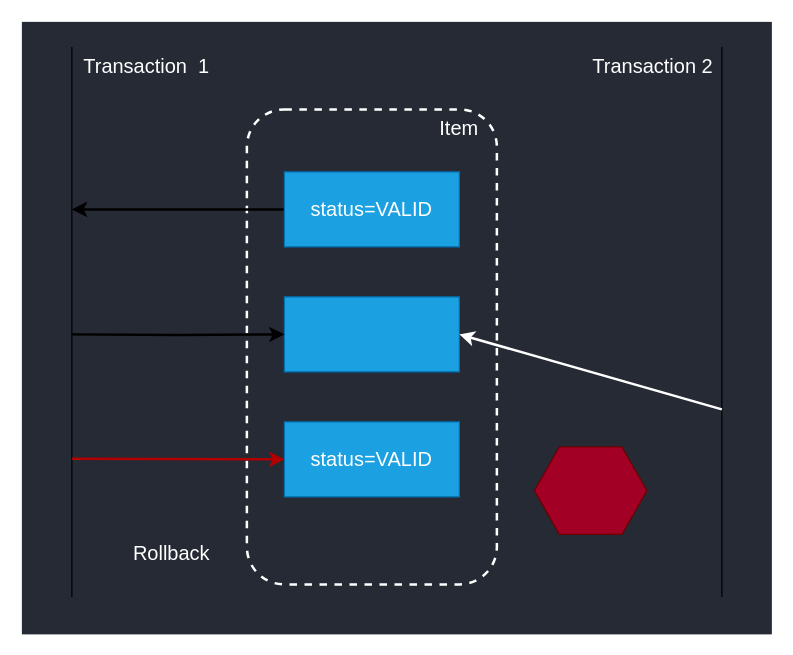
Image size: 793x655. Some labels were removed from this diagram. The shapes that lost their labels are listed below. From the top down, each one's centre as x and y in pixels, then its label:
At [371,334]: "status=INVALID".
At [590,490]: "Dirty Read".
